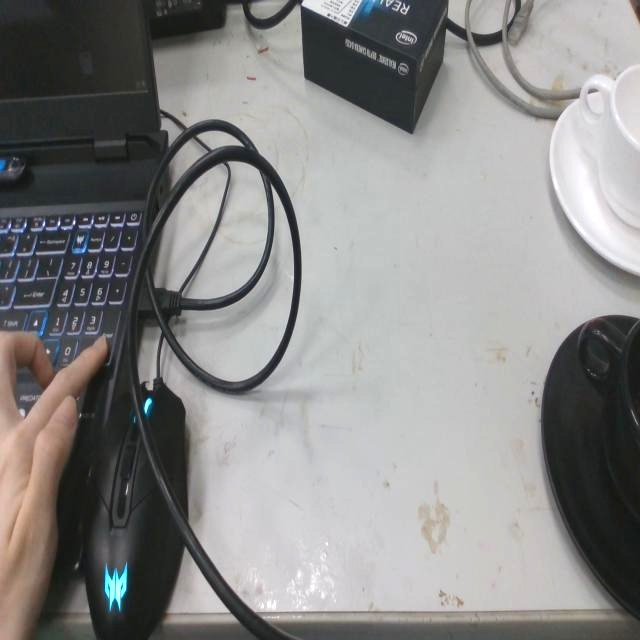black: (537, 310, 640, 626)
white: (546, 57, 640, 283)
